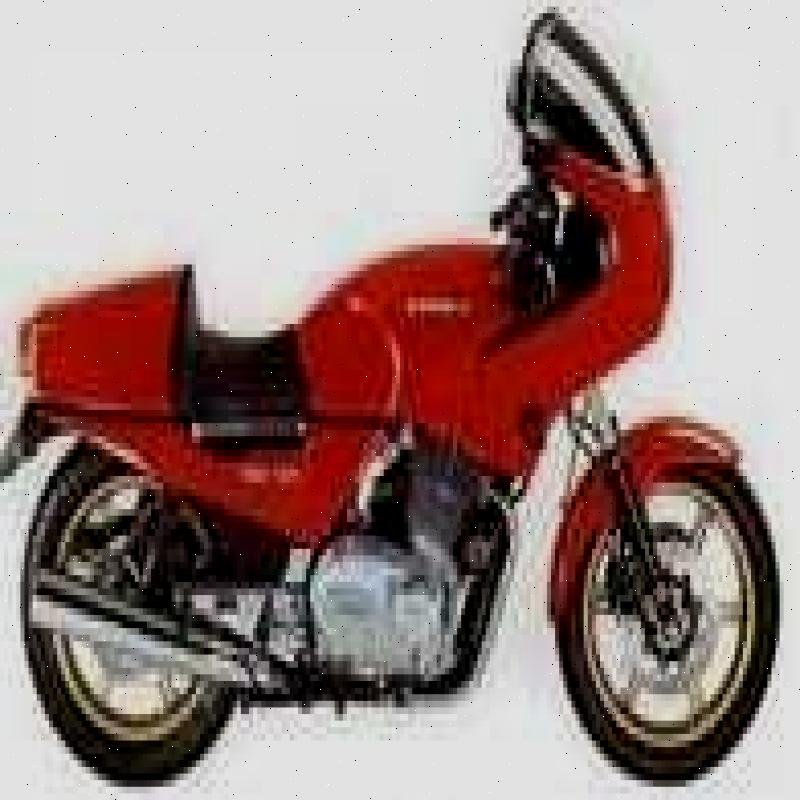bike: (18, 44, 787, 782)
